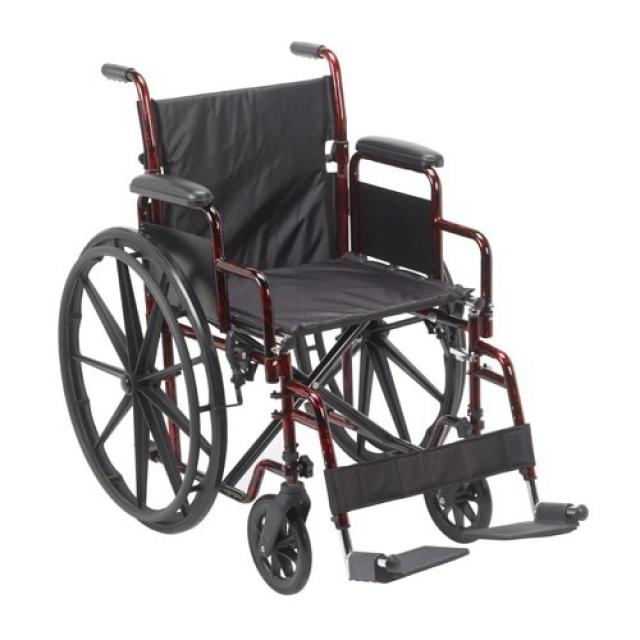wheelchair: (48, 31, 602, 606)
